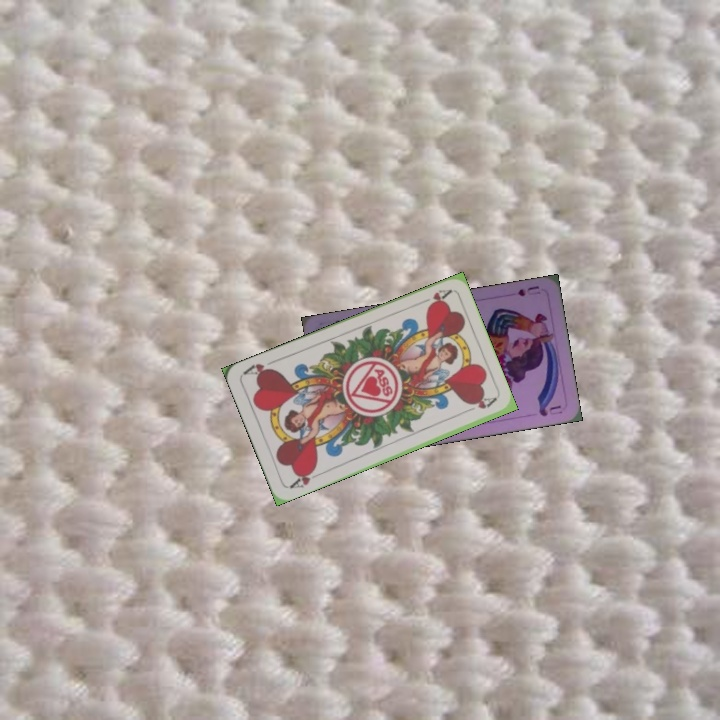HA: (285, 465, 324, 491), (414, 285, 454, 310)
SU: (514, 282, 543, 299)
